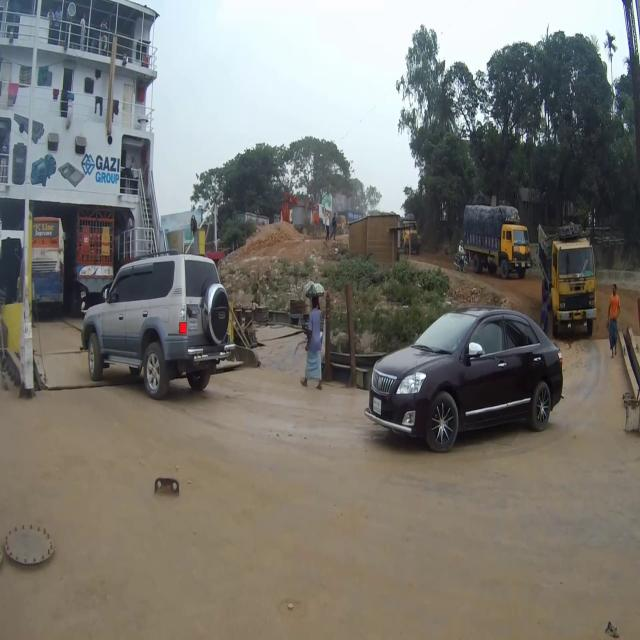black: (364, 303, 564, 453)
silver: (80, 250, 235, 399)
